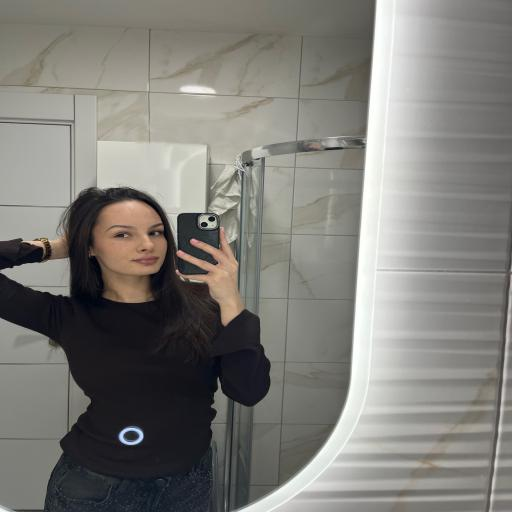marija: (90, 202, 170, 275)
